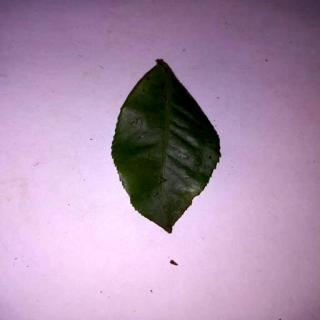Bird Eye Spot: (114, 58, 222, 235)
